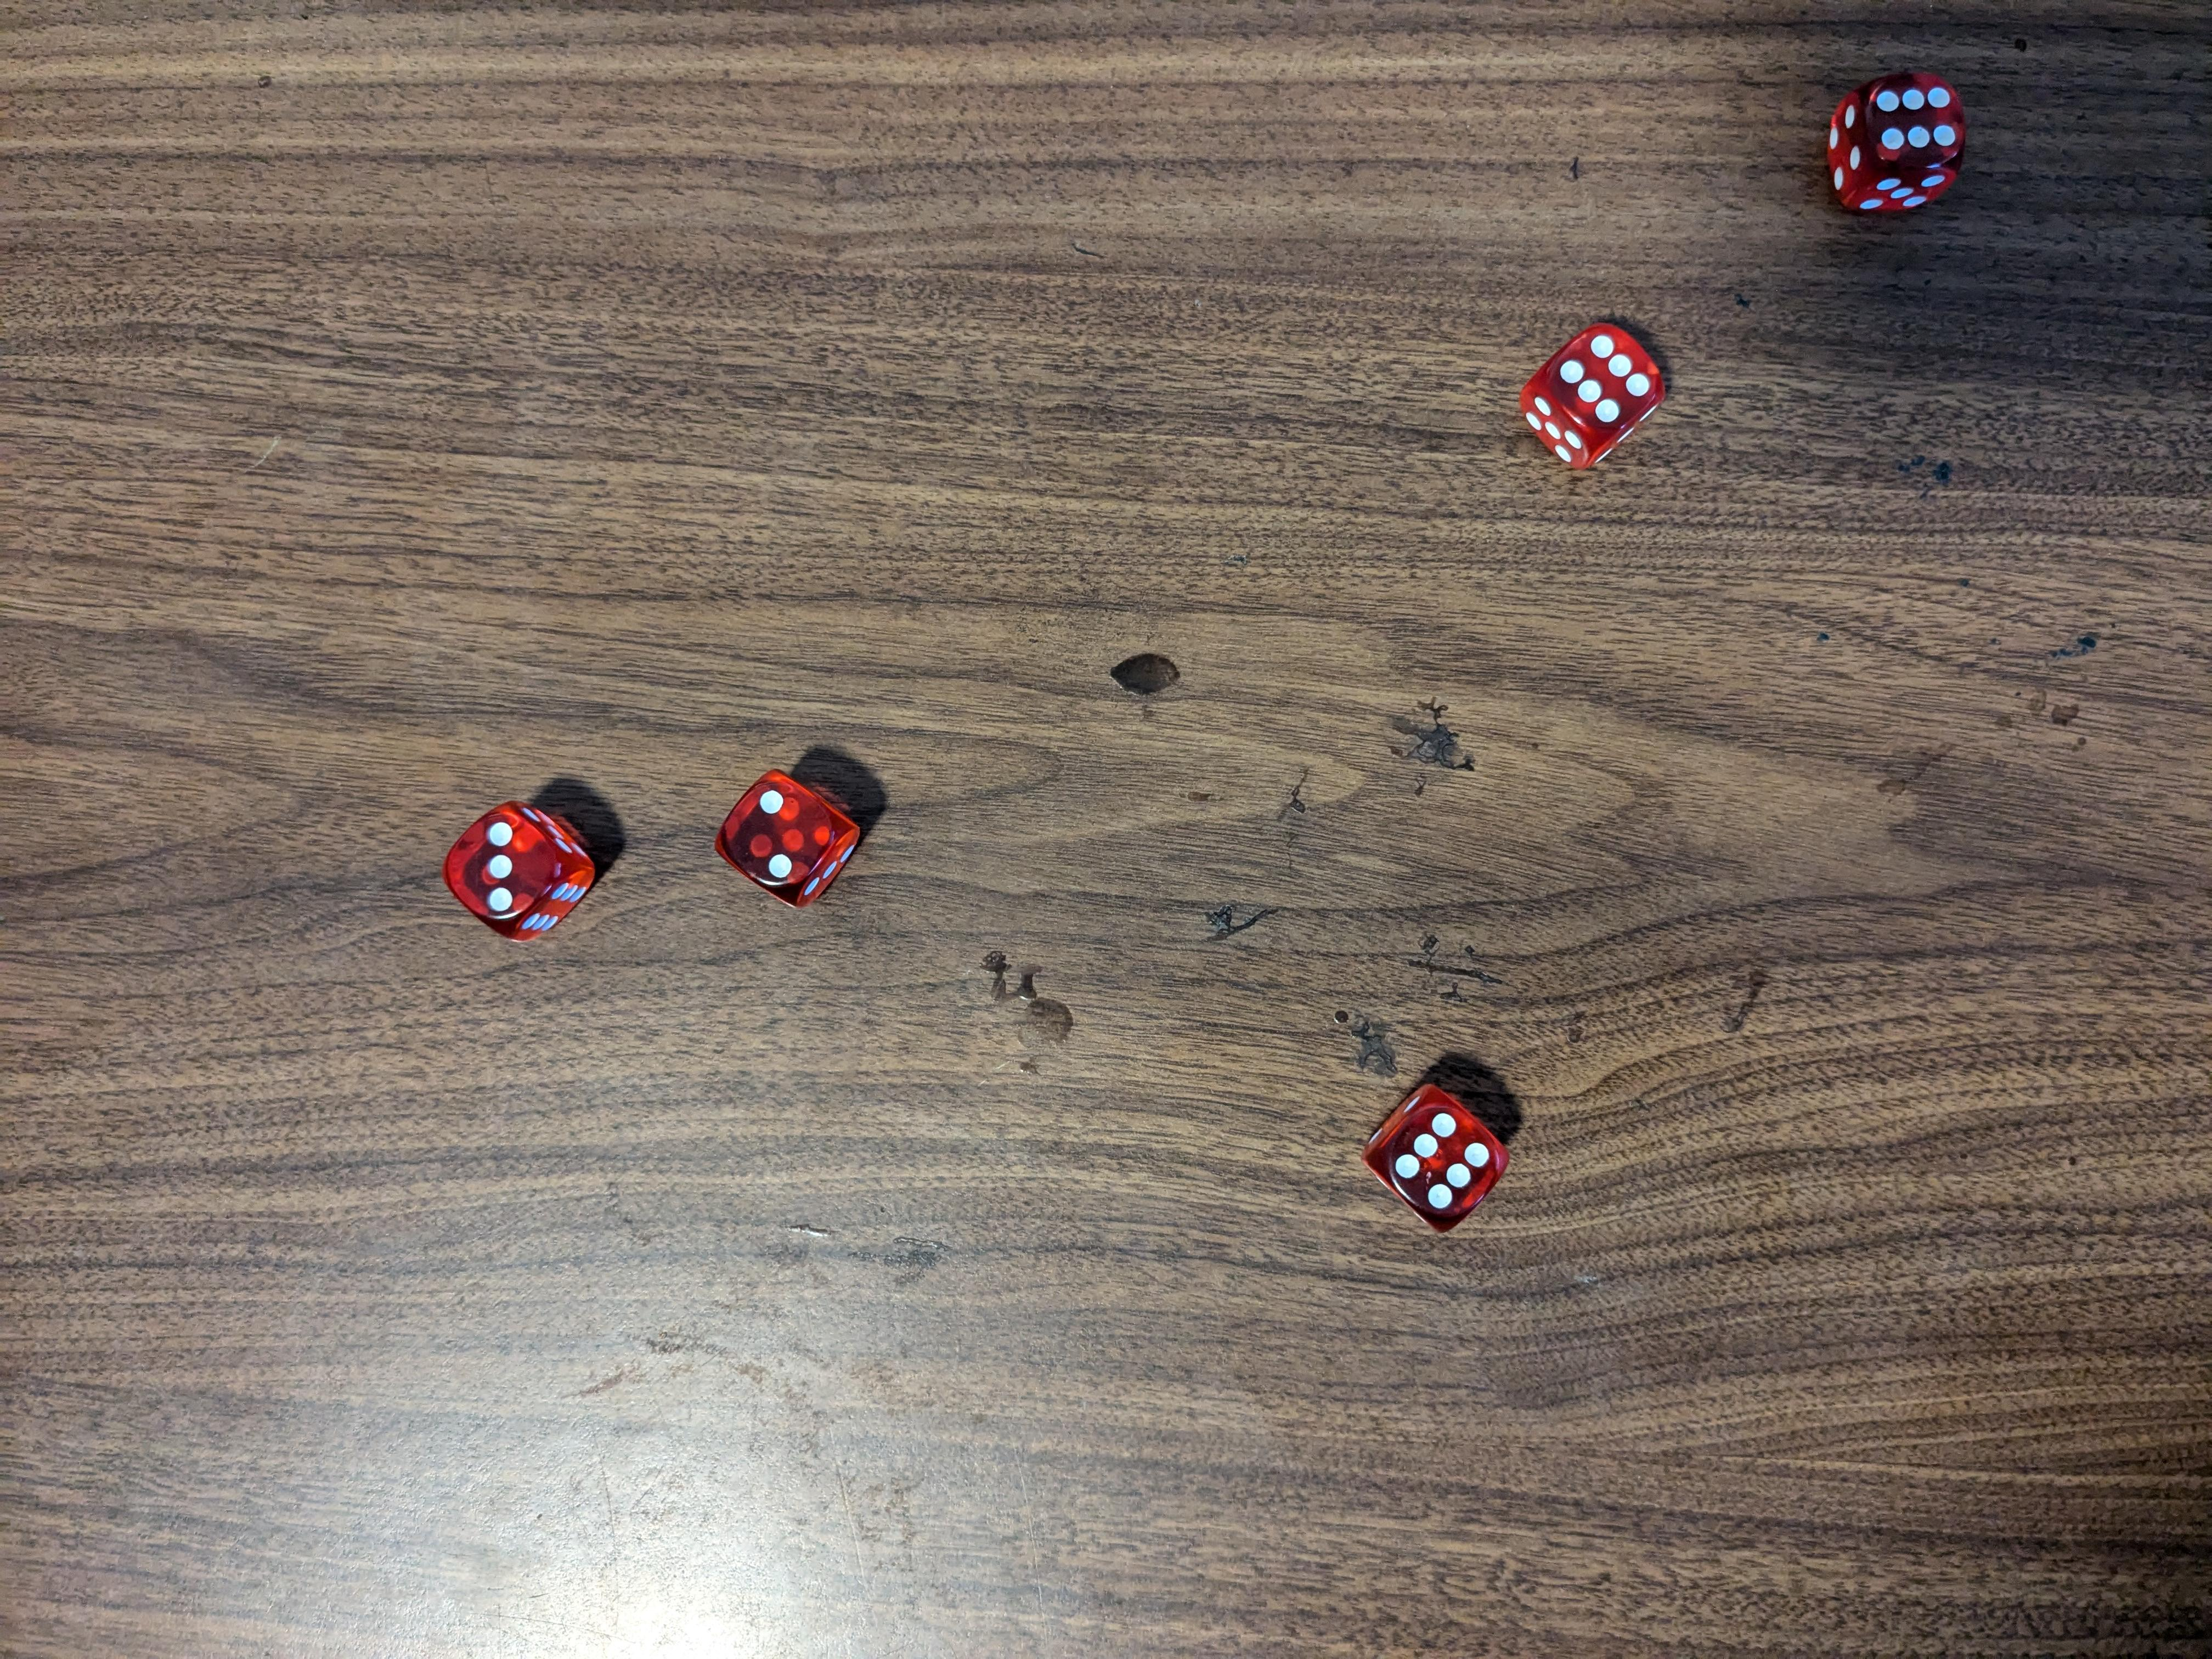six: (1360, 1080, 1512, 1232), (1822, 71, 1966, 213), (1527, 314, 1663, 458)
three: (451, 798, 596, 945)
two: (711, 769, 855, 908)
